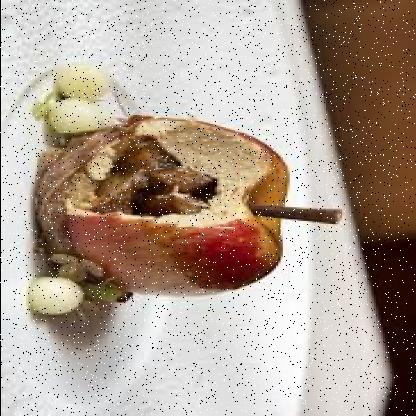damaged_apple: (46, 115, 296, 304)
